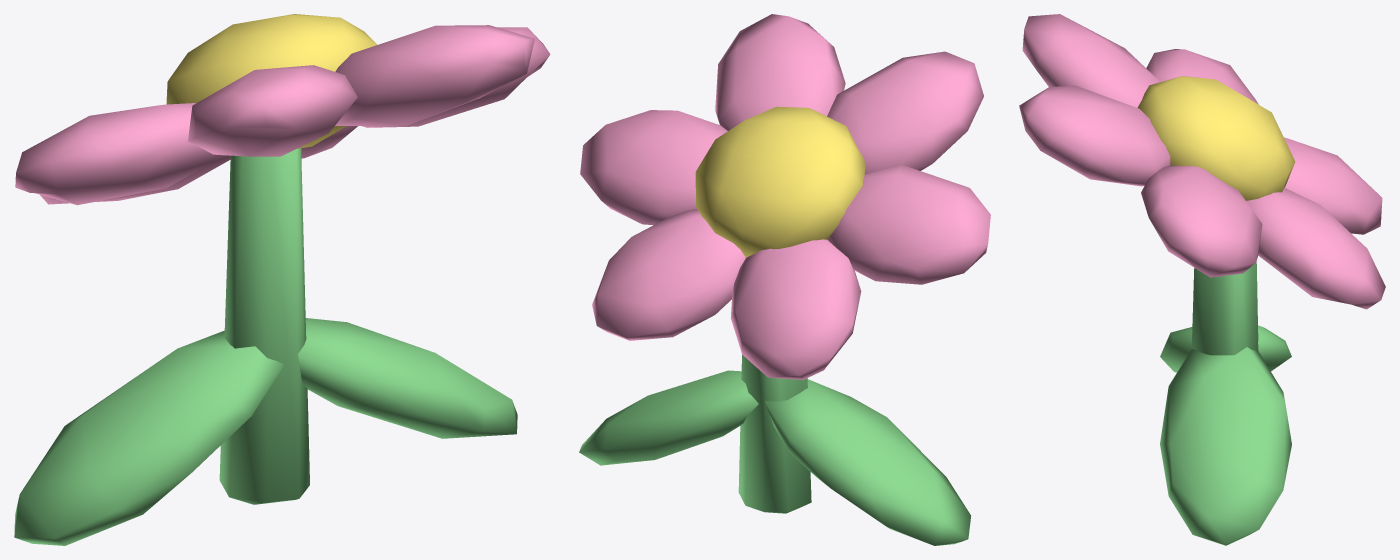
File: flower_daisy_pink.glb
3 renders of one model, left to right at view 1: azimuth 30°, elevation 25°; view 2: azimuth 150°, elevation 25°; view 3: azimuth 270°, elevation 25°, orthographic. The views are drawn at different scales.
Visible parts, largest first — view 1: Leaf_-1, Stem, Leaf_1, Petal_5, Petal_3, Petal_4, ButtonCenter, Petal_0, Petal_2; view 2: ButtonCenter, Leaf_-1, Petal_2, Petal_3, Petal_1, Petal_4, Petal_0, Petal_5, Leaf_1, Stem; view 3: Leaf_1, ButtonCenter, Petal_5, Petal_1, Petal_0, Petal_4, Stem, Petal_2, Petal_3, Leaf_-1.
Boxes of the visible parts, bbox=[...] form: Leaf_-1: bbox=[14, 330, 283, 545]; Stem: bbox=[219, 148, 309, 504]; Leaf_1: bbox=[298, 318, 517, 438]; Petal_5: bbox=[335, 25, 534, 125]; Petal_3: bbox=[15, 103, 219, 205]; Petal_4: bbox=[188, 65, 357, 156]; ButtonCenter: bbox=[166, 14, 377, 148]; Petal_0: bbox=[362, 27, 550, 127]; Petal_2: bbox=[40, 155, 230, 204]; ButtonCenter: bbox=[695, 106, 865, 257]; Leaf_-1: bbox=[765, 379, 970, 545]; Petal_2: bbox=[730, 239, 861, 379]; Petal_3: bbox=[827, 165, 990, 284]; Petal_1: bbox=[592, 209, 745, 340]; Petal_4: bbox=[827, 51, 983, 174]; Petal_0: bbox=[580, 110, 727, 225]; Petal_5: bbox=[715, 14, 845, 130]; Leaf_1: bbox=[579, 370, 758, 465]; Stem: bbox=[738, 354, 811, 513]; Leaf_1: bbox=[1160, 347, 1291, 545]; ButtonCenter: bbox=[1137, 76, 1295, 200]; Petal_5: bbox=[1019, 85, 1170, 186]; Petal_1: bbox=[1246, 187, 1385, 309]; Petal_0: bbox=[1141, 165, 1262, 277]; Petal_4: bbox=[1022, 14, 1159, 107]; Stem: bbox=[1191, 262, 1258, 355]; Petal_2: bbox=[1284, 137, 1382, 234]; Petal_3: bbox=[1146, 49, 1258, 104]; Leaf_-1: bbox=[1160, 325, 1291, 372].
Size of the model in its own units: 0.3998 by 0.3763 by 0.312.
